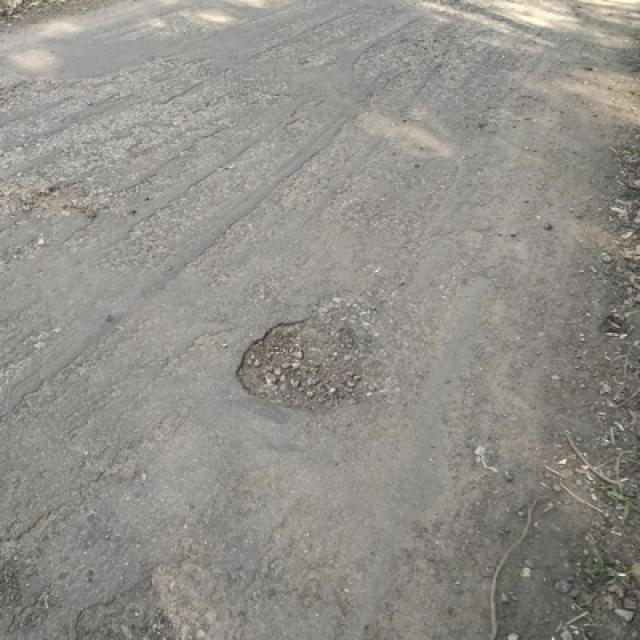Pothole: (230, 315, 382, 413), (29, 179, 93, 219)
